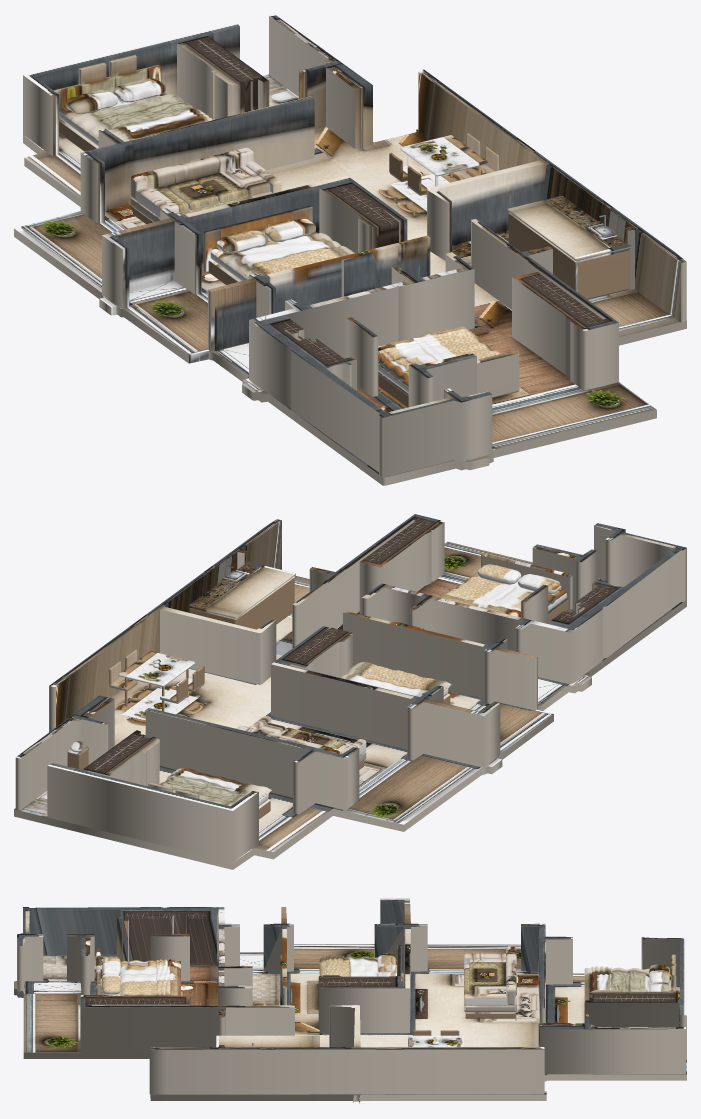
File: p8-06-u07-0112-image-model.glb
3 views of the same model, one above another, from view 1: azimuth 30°, elevation 25°; view 2: azimuth 150°, elevation 25°; view 3: azimuth 270°, elevation 25° (orthographic). The views are drawn at different scales.
Parts seen in each view (by area): view 1: Partition walls, Apartment floor, Kitchen cabinets, Stone worktop, Draped bed linen, Sofa back, Draped bed linen.002, Marble dining top, Draped bed linen.004, Upholstered headboard.002, Upholstered headboard.001, Upholstered headboard (+10 smaller); view 2: Partition walls, Apartment floor, Stone worktop, Kitchen cabinets, Marble dining top, Draped bed linen.004, Draped bed linen, Upholstered headboard.002, Draped bed linen.001, Draped bed linen.002, Draped bed linen.003, Draped bed linen.005 (+2 smaller); view 3: Partition walls, Apartment floor, Draped bed linen.004, Stone worktop, Draped bed linen, Draped bed linen.002, Marble dining top, Draped bed linen.005, Upholstered sofa frame, Sofa back, Padded armrest.001, Draped bed linen.001 (+9 smaller).
Part boxes in pixels (x1,y1,x2,y2): Partition walls: [23, 14, 686, 477]; Apartment floor: [14, 74, 686, 485]; Kitchen cabinets: [508, 212, 629, 299]; Stone worktop: [507, 195, 631, 261]; Draped bed linen: [70, 93, 211, 141]; Sofa back: [131, 147, 253, 198]; Draped bed linen.002: [220, 233, 341, 278]; Marble dining top: [400, 135, 487, 176]; Draped bed linen.004: [378, 330, 491, 381]; Upholstered headboard.002: [477, 350, 519, 397]; Upholstered headboard.001: [203, 205, 312, 272]; Upholstered headboard: [54, 65, 161, 117]; Partition walls: [15, 514, 686, 862]; Apartment floor: [14, 541, 686, 869]; Stone worktop: [188, 561, 295, 618]; Kitchen cabinets: [189, 576, 294, 629]; Marble dining top: [119, 651, 194, 686]; Draped bed linen.004: [442, 576, 557, 616]; Draped bed linen: [159, 769, 271, 806]; Upholstered headboard.002: [481, 553, 572, 610]; Draped bed linen.001: [167, 768, 268, 798]; Draped bed linen.002: [340, 663, 451, 697]; Draped bed linen.003: [348, 662, 448, 690]; Draped bed linen.005: [440, 589, 520, 617]; Partition walls: [17, 898, 686, 1094]; Apartment floor: [14, 944, 686, 1104]; Draped bed linen.004: [120, 960, 180, 995]; Stone worktop: [216, 1035, 319, 1047]; Draped bed linen: [584, 967, 649, 1002]; Draped bed linen.002: [319, 956, 377, 976]; Marble dining top: [408, 1035, 463, 1047]; Draped bed linen.005: [156, 958, 174, 995]; Upholstered sofa frame: [464, 964, 516, 1012]; Sofa back: [506, 946, 516, 1004]; Padded armrest.001: [464, 994, 516, 1005]; Draped bed linen.001: [591, 966, 611, 990].
Bounding box in the file's own units: 8.59 × 1.3 × 15.53.
13 materials, 3 textured.
